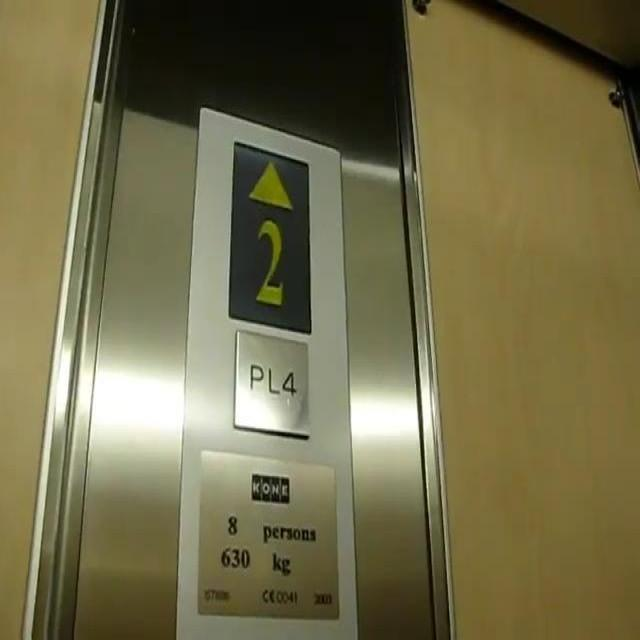PL4: (233, 327, 310, 437)
led: (228, 138, 311, 334)
